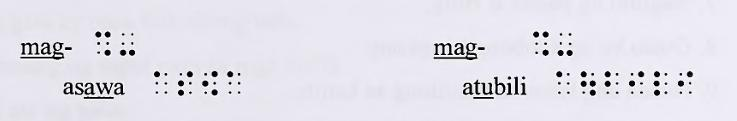a: (555, 69, 572, 97), (227, 69, 243, 98), (153, 69, 170, 95)
aw: (203, 69, 219, 97)
b: (603, 69, 621, 100)
i: (677, 69, 695, 97), (629, 69, 645, 96)
l: (654, 69, 669, 97)
mag: (94, 29, 113, 58), (532, 29, 551, 58)
s: (179, 69, 194, 96)
tu: (579, 69, 597, 100)
